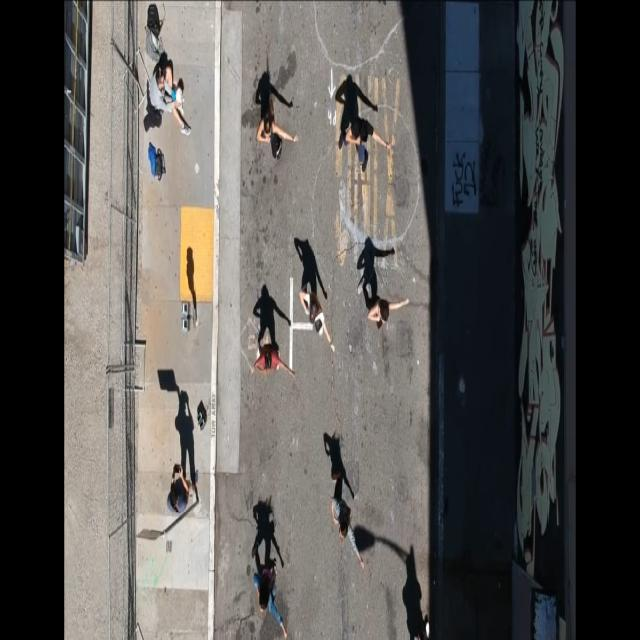humans: (146, 56, 192, 138), (250, 556, 290, 639), (343, 111, 391, 177), (329, 492, 367, 574), (252, 337, 299, 391), (300, 284, 335, 354), (258, 108, 301, 150), (166, 461, 197, 519), (364, 295, 411, 330)
